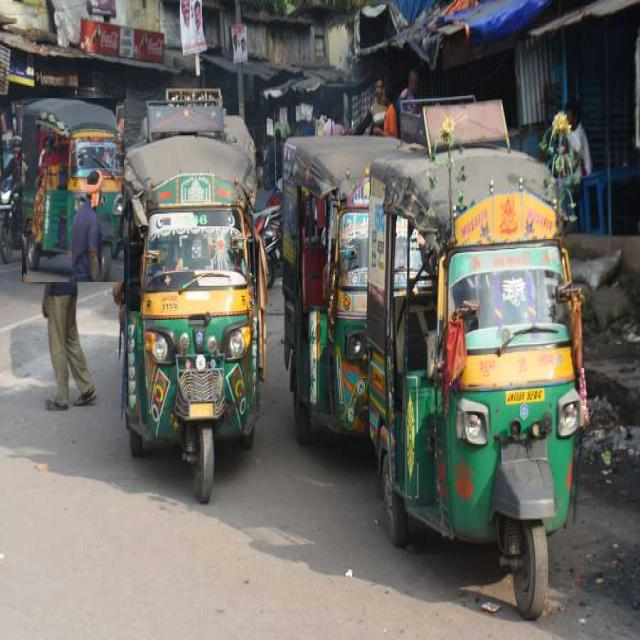autorickshaw: (368, 107, 586, 618), (116, 116, 265, 502), (284, 136, 399, 445), (22, 98, 124, 282)
motorcycle: (0, 136, 29, 262)
